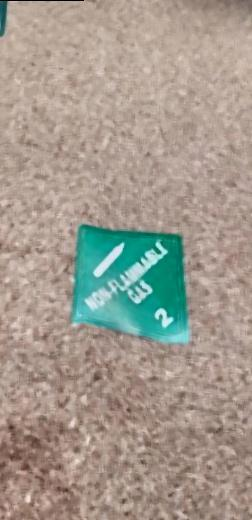non-flammable-gas: (73, 224, 184, 344)
